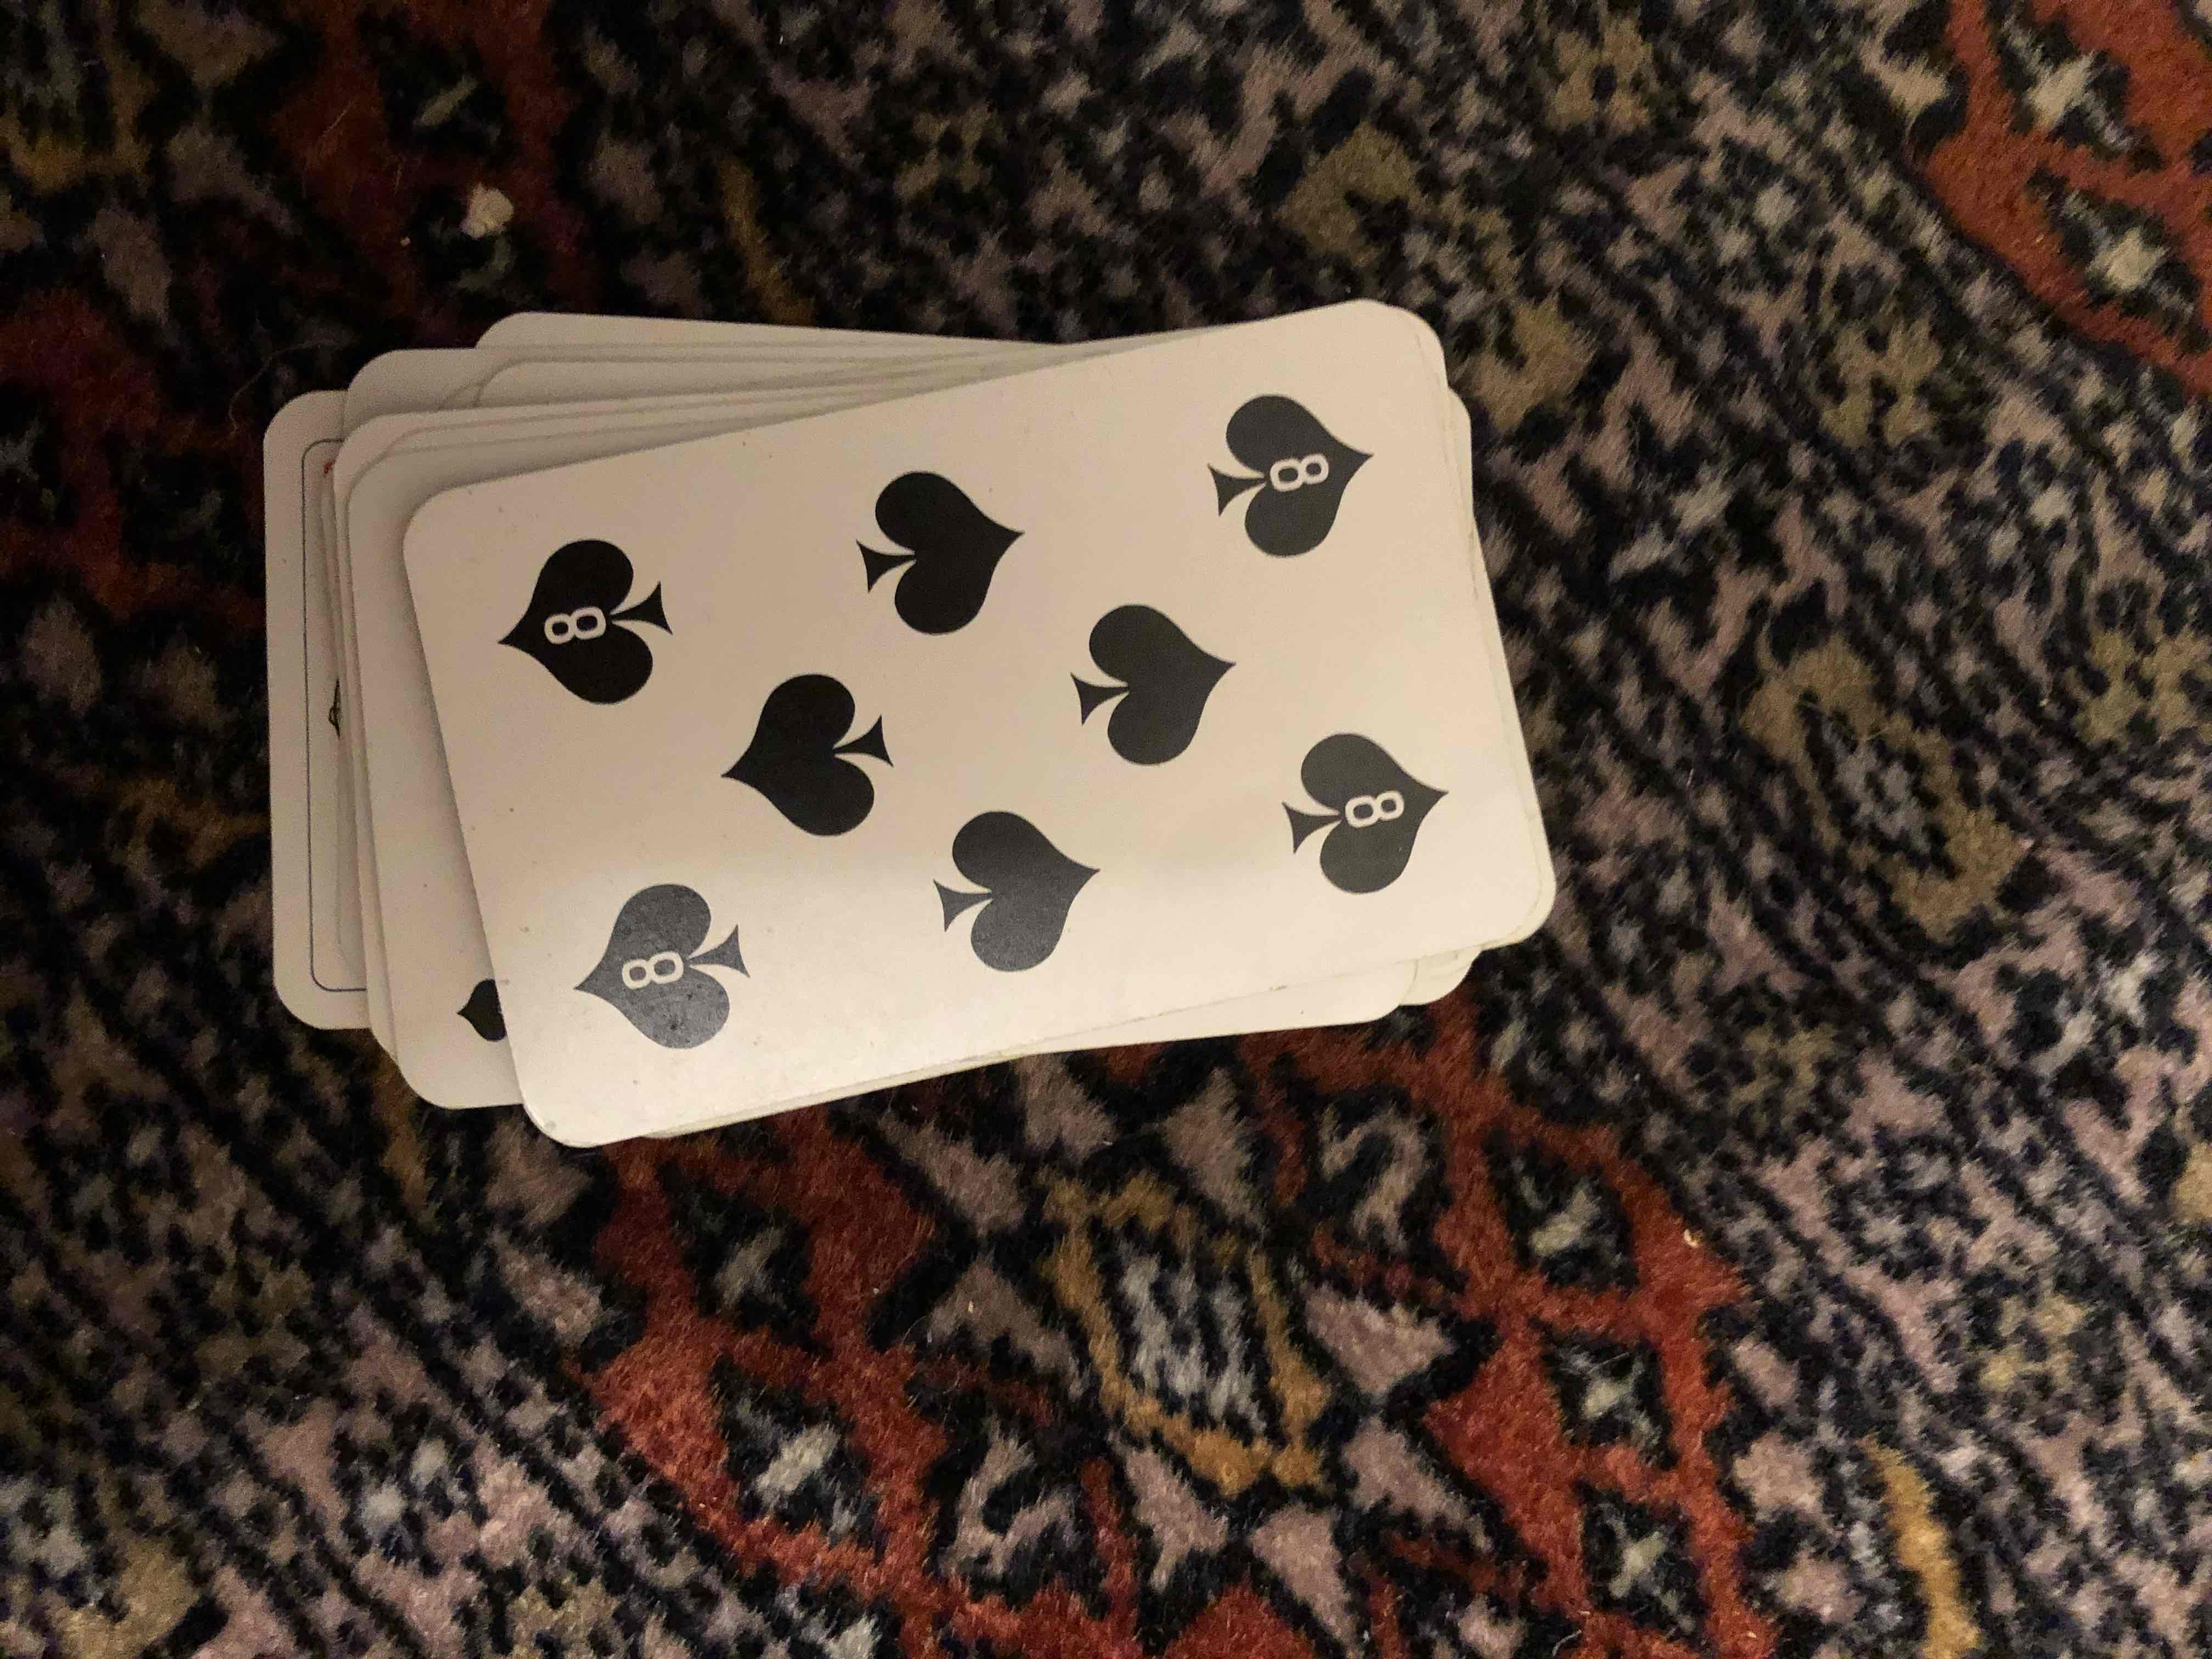spades8: (418, 286, 1463, 1087)
